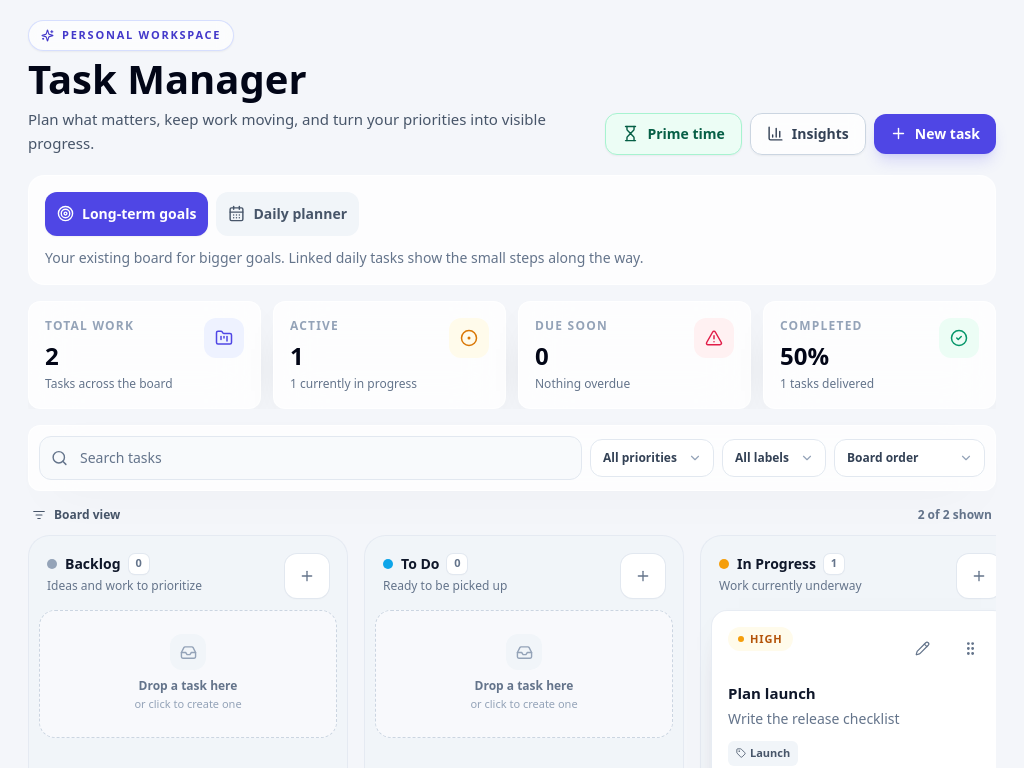
Test: closes prime time when the backdrop is clicked
The width and height of the screenshot is (1024, 768).
Step 1. Click the button "Prime time" → click(674, 134), box [605,112,742,154]
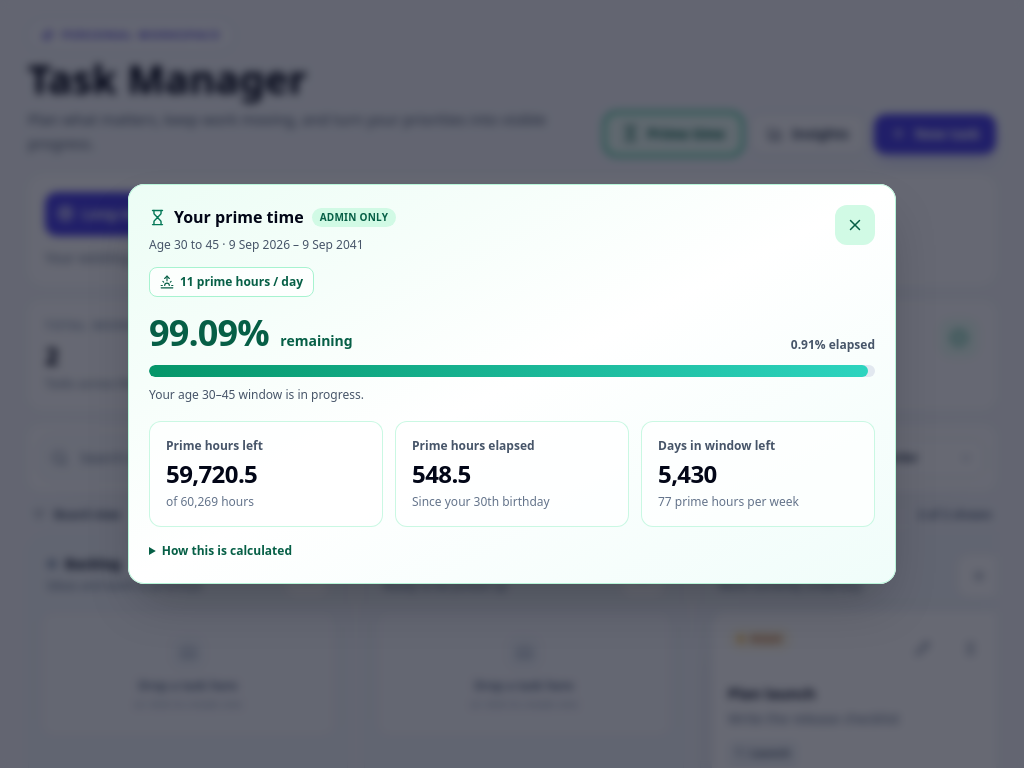
Step 2. Press the mouse on the element that starts with "Your prime time" → (512, 384), box [0,0,1023,767]
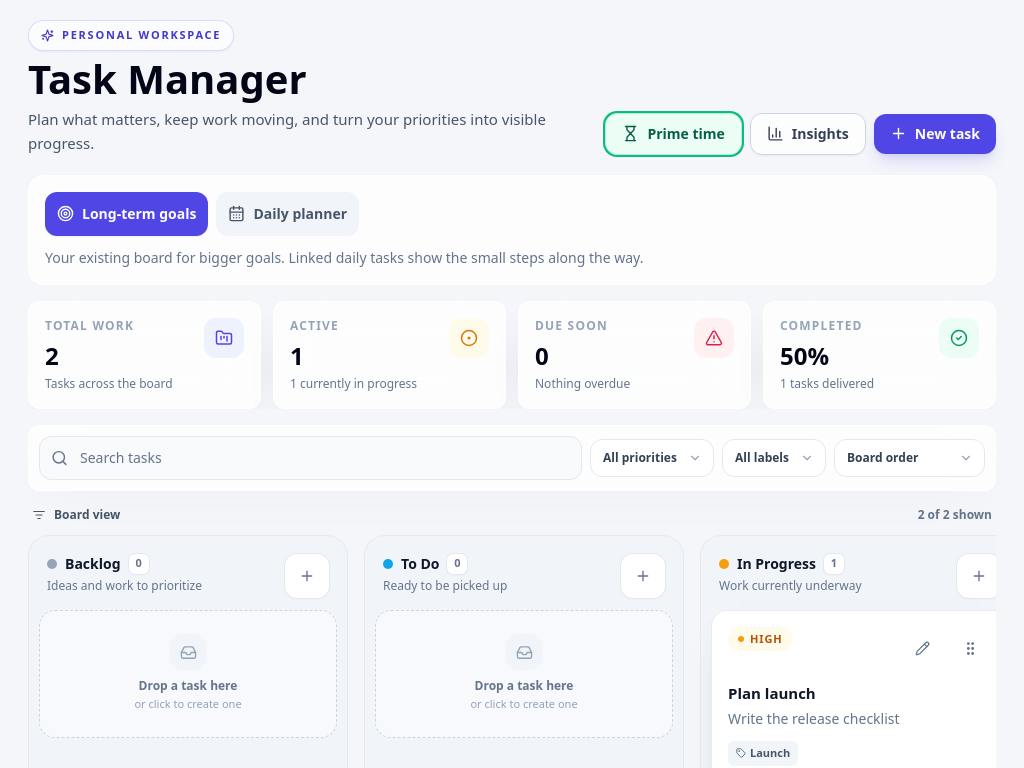
Expected: the heading "Your prime time" is gone
